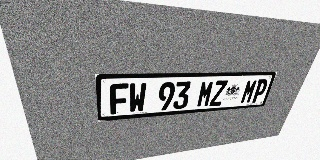3: (173, 81, 191, 109)
9: (157, 82, 176, 111)
F: (110, 83, 128, 115)
M: (196, 81, 215, 107), (240, 79, 258, 104)
P: (251, 79, 269, 103)
W: (129, 83, 147, 113)
Z: (209, 80, 228, 106)
